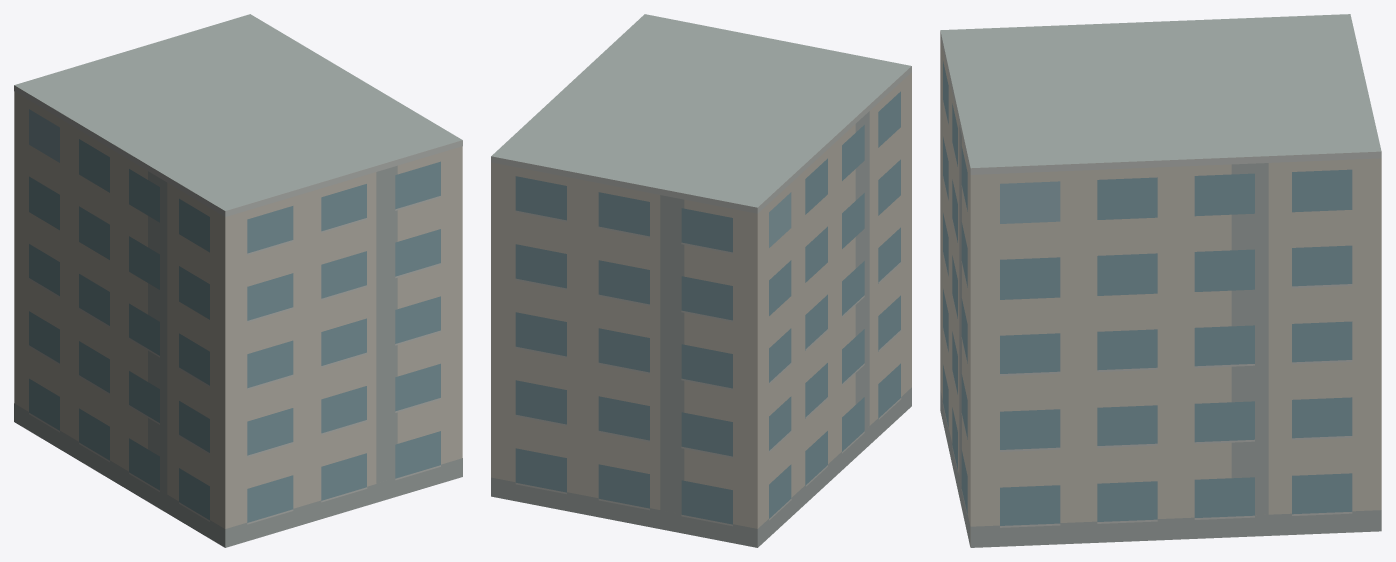
The model's file is survey-upis-32894101.glb.
3 views of the same model, side by side, from view 1: azimuth 30°, elevation 25°; view 2: azimuth 150°, elevation 25°; view 3: azimuth 270°, elevation 25° (orthographic). The views are drawn at different scales.
Parts seen in each view (by area): view 1: survey-upis-32894101.tmp; view 2: survey-upis-32894101.tmp; view 3: survey-upis-32894101.tmp.
Boxes of the visible parts, x1,y1,x2,y2 form: survey-upis-32894101.tmp: [14, 14, 462, 547]; survey-upis-32894101.tmp: [491, 14, 911, 547]; survey-upis-32894101.tmp: [940, 14, 1381, 547].
Size of the model in its own units: 11.81 by 13.55 by 14.28.
